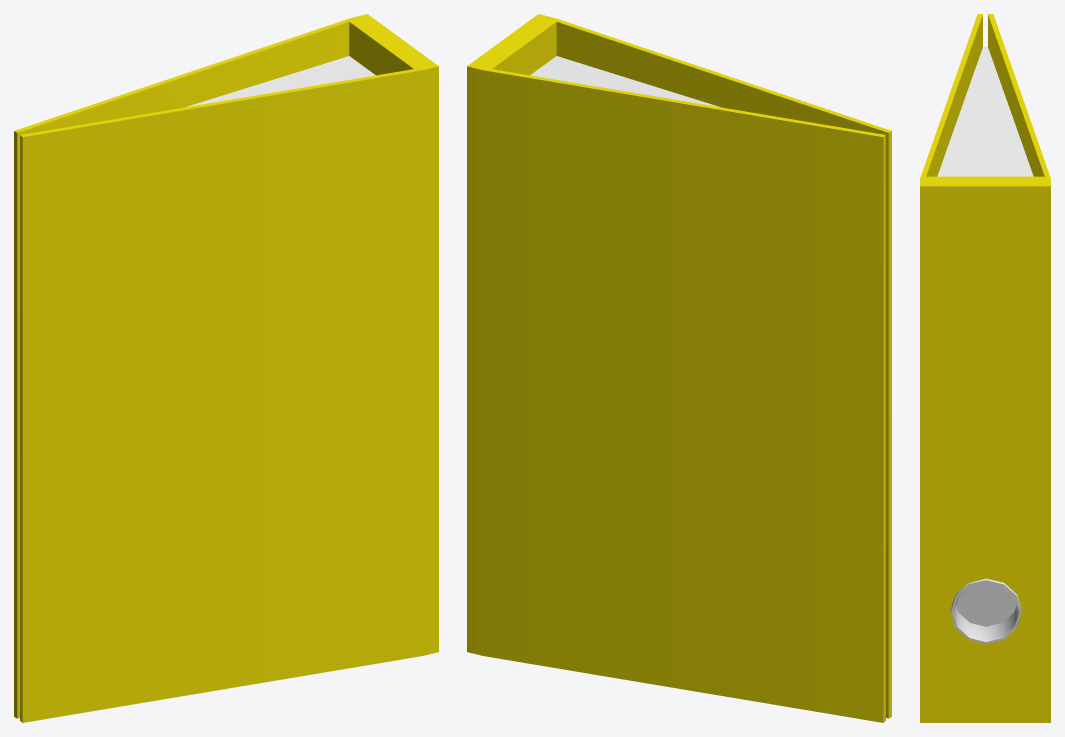
Rendered from Carpeta05.fbx.
3 views of the same model, side by side, from view 1: azimuth 30°, elevation 25°; view 2: azimuth 150°, elevation 25°; view 3: azimuth 270°, elevation 25° (orthographic). The views are drawn at different scales.
Parts seen in each view (by area): view 1: Carpeta05; view 2: Carpeta05; view 3: Carpeta05.
Boxes of the visible parts, x1,y1,x2,y2 form: Carpeta05: (14, 14, 438, 722); Carpeta05: (467, 14, 891, 722); Carpeta05: (920, 14, 1050, 722).
Bounding box in the file's own units: 34.66 × 50.08 × 11.07.
